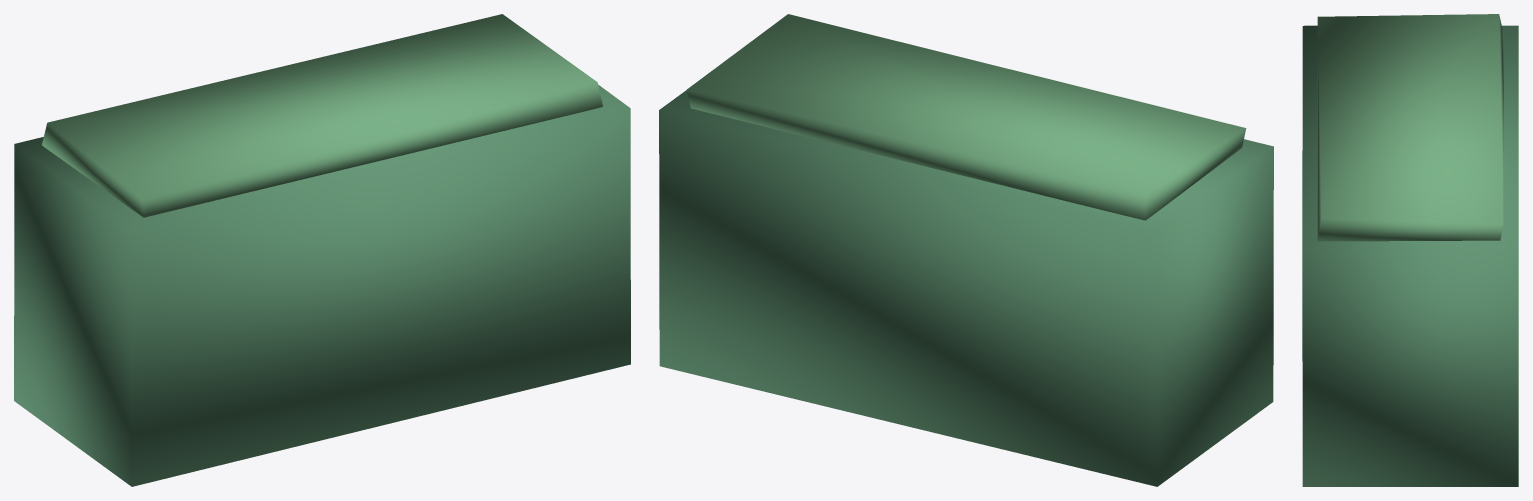
The model's file is SM_Warmerdamm_Hedge_LOD3.fbx.
3 renders of one model, left to right at view 1: azimuth 30°, elevation 25°; view 2: azimuth 150°, elevation 25°; view 3: azimuth 270°, elevation 25°, orthographic. The views are drawn at different scales.
Visible parts, largest first — view 1: SM_Warmerdamm_Hedge_LOD3; view 2: SM_Warmerdamm_Hedge_LOD3; view 3: SM_Warmerdamm_Hedge_LOD3.
Part boxes in pixels (x1=…): SM_Warmerdamm_Hedge_LOD3: x1=14, y1=14, x2=630, y2=486; SM_Warmerdamm_Hedge_LOD3: x1=659, y1=14, x2=1273, y2=486; SM_Warmerdamm_Hedge_LOD3: x1=1302, y1=14, x2=1518, y2=486.
Size of the model in its own units: 2.36 by 1.27 by 0.9603.
